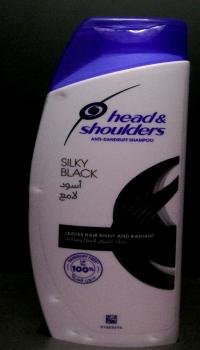dent_marginal: (46, 288, 64, 308), (144, 328, 168, 343), (30, 183, 49, 198), (82, 330, 100, 343), (66, 324, 80, 339), (53, 88, 69, 100)
